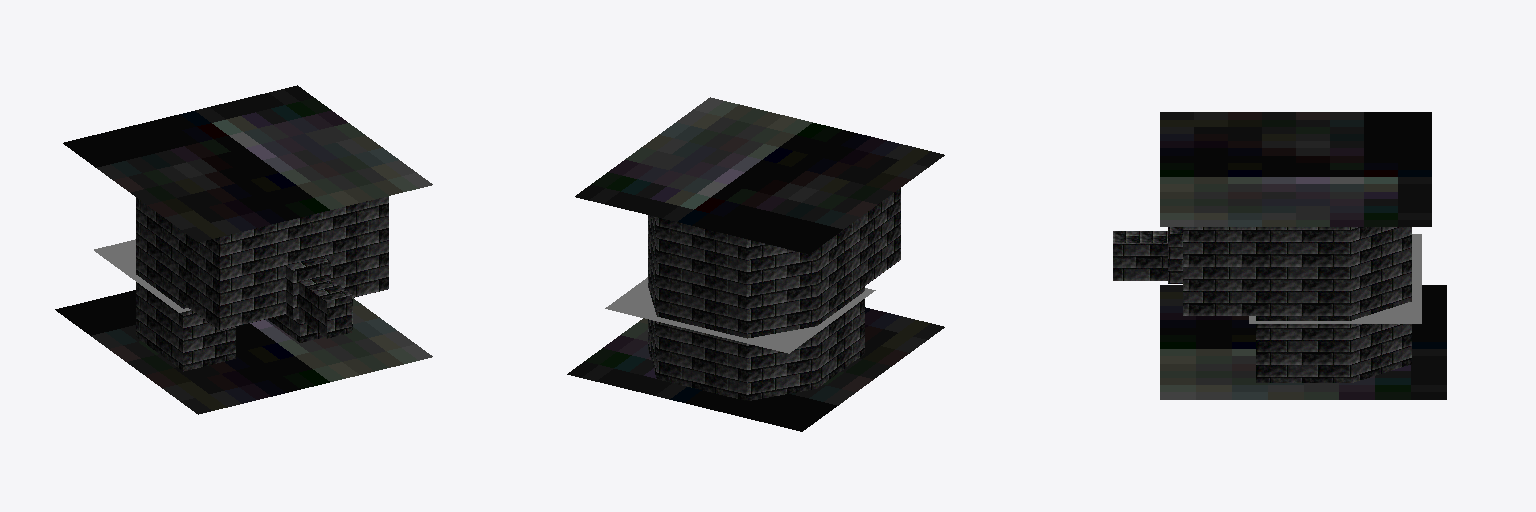
3 views of the same model, side by side, from view 1: azimuth 30°, elevation 25°; view 2: azimuth 150°, elevation 25°; view 3: azimuth 270°, elevation 25° (orthographic).
Parts seen in each view (by area): view 1: MapMesh#NoCollision_initialShadingGroup, MapMesh#NoCollision_initialShadingGroup_COS-0x10F08_32x32_RGBA16; view 2: MapMesh#NoCollision_initialShadingGroup, MapMesh#NoCollision_initialShadingGroup_COS-0x10F08_32x32_RGBA16; view 3: MapMesh#NoCollision_initialShadingGroup, MapMesh#NoCollision_initialShadingGroup_COS-0x10F08_32x32_RGBA16.
Part boxes in pixels (bbox=[...]): MapMesh#NoCollision_initialShadingGroup: bbox=[55, 85, 432, 414]; MapMesh#NoCollision_initialShadingGroup_COS-0x10F08_32x32_RGBA16: bbox=[94, 239, 190, 312]; MapMesh#NoCollision_initialShadingGroup: bbox=[567, 97, 944, 431]; MapMesh#NoCollision_initialShadingGroup_COS-0x10F08_32x32_RGBA16: bbox=[605, 277, 875, 353]; MapMesh#NoCollision_initialShadingGroup: bbox=[1113, 112, 1446, 399]; MapMesh#NoCollision_initialShadingGroup_COS-0x10F08_32x32_RGBA16: bbox=[1249, 234, 1421, 323].
Size of the model in its own units: 651 by 454 by 799.
3 materials, 2 textured.